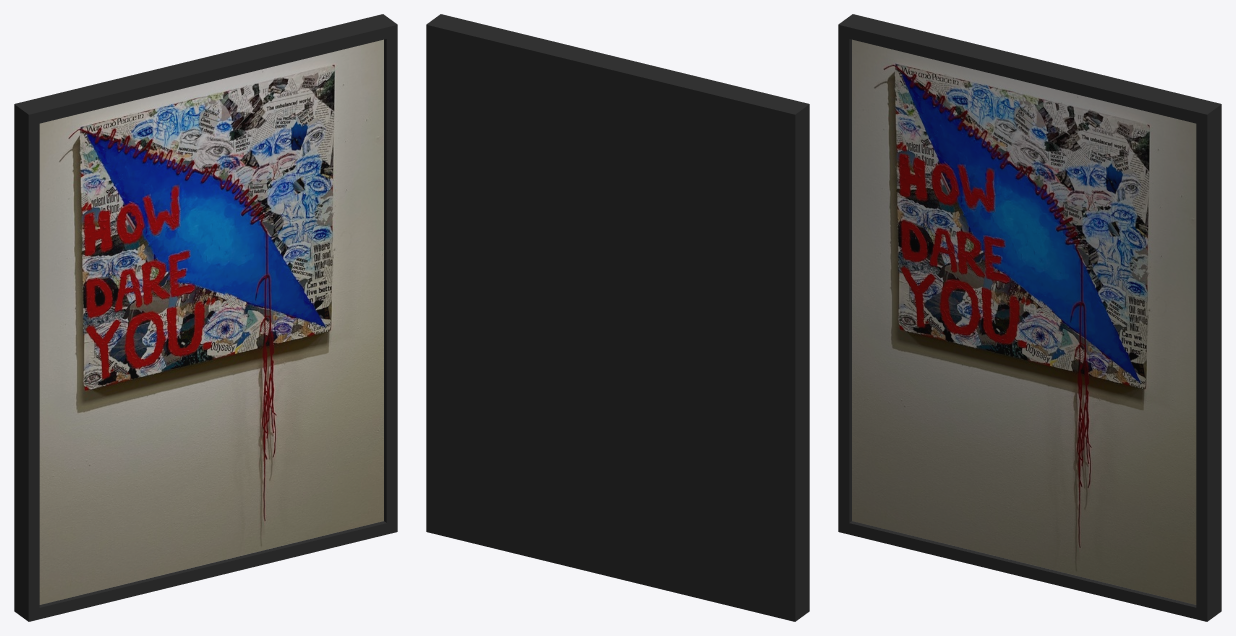
The model's file is ART26_IMG_6652.fbx.
3 views of the same model, side by side, from view 1: azimuth 30°, elevation 25°; view 2: azimuth 150°, elevation 25°; view 3: azimuth 330°, elevation 25° (orthographic).
Visible parts, largest first — view 1: ART26_IMG_6652; view 2: ART26_IMG_6652; view 3: ART26_IMG_6652.
Part boxes in pixels (x1=…): ART26_IMG_6652: x1=14, y1=14, x2=397, y2=621; ART26_IMG_6652: x1=426, y1=14, x2=809, y2=621; ART26_IMG_6652: x1=838, y1=14, x2=1221, y2=621.
Size of the model in its own units: 83.75 by 5.75 by 110.
2 materials, 1 textured.
